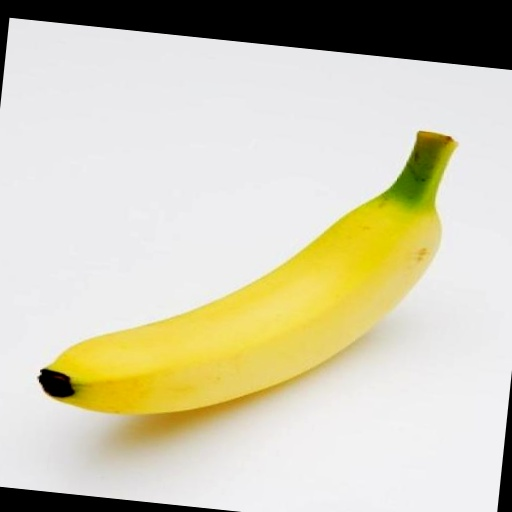fruit: (39, 132, 455, 413)
